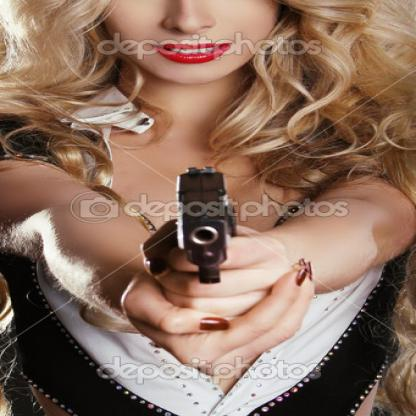gun: (150, 153, 254, 299)
